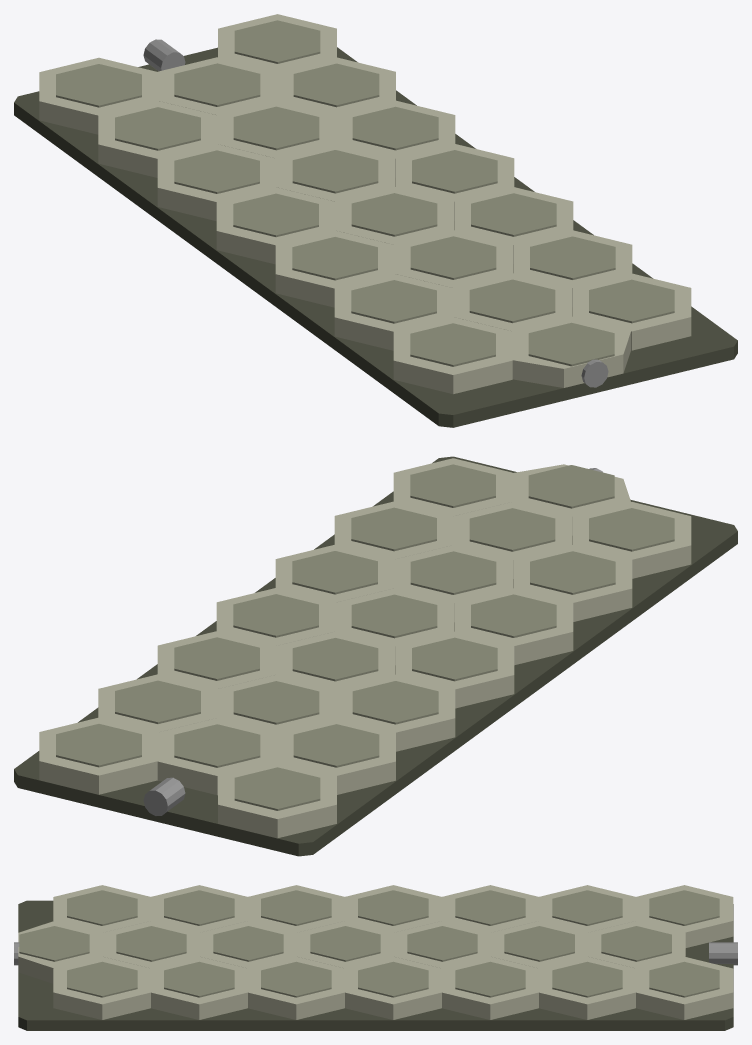
The model's file is vge_mech_solar_panel.obj.
3 views of the same model, one above another, from view 1: azimuth 30°, elevation 25°; view 2: azimuth 150°, elevation 25°; view 3: azimuth 270°, elevation 25° (orthographic). The views are drawn at different scales.
Parts seen in each view (by area): view 1: vge_mech_solar_panel_0, vge_mech_solar_panel_13, vge_mech_solar_panel_41, vge_mech_solar_panel_11, vge_mech_solar_panel_5, vge_mech_solar_panel_7, vge_mech_solar_panel_27, vge_mech_solar_panel_1, vge_mech_solar_panel_3, vge_mech_solar_panel_9, vge_mech_solar_panel_32, vge_mech_solar_panel_18 (+32 smaller); view 2: vge_mech_solar_panel_0, vge_mech_solar_panel_1, vge_mech_solar_panel_29, vge_mech_solar_panel_5, vge_mech_solar_panel_13, vge_mech_solar_panel_7, vge_mech_solar_panel_9, vge_mech_solar_panel_11, vge_mech_solar_panel_3, vge_mech_solar_panel_15, vge_mech_solar_panel_6, vge_mech_solar_panel_16 (+32 smaller); view 3: vge_mech_solar_panel_0, vge_mech_solar_panel_29, vge_mech_solar_panel_33, vge_mech_solar_panel_41, vge_mech_solar_panel_31, vge_mech_solar_panel_35, vge_mech_solar_panel_37, vge_mech_solar_panel_39, vge_mech_solar_panel_1, vge_mech_solar_panel_2, vge_mech_solar_panel_4, vge_mech_solar_panel_6 (+32 smaller).
Part boxes in pixels (bbox=[...]): vge_mech_solar_panel_0: bbox=[14, 47, 737, 427]; vge_mech_solar_panel_13: bbox=[393, 317, 512, 394]; vge_mech_solar_panel_41: bbox=[572, 273, 691, 350]; vge_mech_solar_panel_11: bbox=[334, 274, 453, 350]; vge_mech_solar_panel_5: bbox=[157, 144, 276, 220]; vge_mech_solar_panel_7: bbox=[216, 187, 335, 264]; vge_mech_solar_panel_27: bbox=[512, 316, 630, 387]; vge_mech_solar_panel_1: bbox=[39, 57, 158, 134]; vge_mech_solar_panel_3: bbox=[98, 101, 217, 177]; vge_mech_solar_panel_9: bbox=[275, 230, 393, 307]; vge_mech_solar_panel_32: bbox=[293, 63, 379, 107]; vge_mech_solar_panel_18: bbox=[233, 106, 319, 150]; vge_mech_solar_panel_0: bbox=[14, 456, 737, 856]; vge_mech_solar_panel_1: bbox=[218, 761, 336, 838]; vge_mech_solar_panel_29: bbox=[39, 718, 158, 794]; vge_mech_solar_panel_5: bbox=[336, 674, 455, 751]; vge_mech_solar_panel_13: bbox=[572, 502, 691, 578]; vge_mech_solar_panel_7: bbox=[395, 631, 514, 708]; vge_mech_solar_panel_9: bbox=[454, 588, 573, 665]; vge_mech_solar_panel_11: bbox=[513, 545, 632, 621]; vge_mech_solar_panel_3: bbox=[277, 718, 395, 794]; vge_mech_solar_panel_15: bbox=[157, 718, 276, 795]; vge_mech_solar_panel_6: bbox=[352, 681, 438, 724]; vge_mech_solar_panel_16: bbox=[174, 724, 260, 767]; vge_mech_solar_panel_0: bbox=[18, 900, 733, 1030]; vge_mech_solar_panel_29: bbox=[635, 957, 733, 1019]; vge_mech_solar_panel_33: bbox=[441, 956, 538, 1019]; vge_mech_solar_panel_41: bbox=[53, 956, 150, 1019]; vge_mech_solar_panel_31: bbox=[538, 956, 636, 1019]; vge_mech_solar_panel_35: bbox=[344, 956, 442, 1019]; vge_mech_solar_panel_37: bbox=[247, 957, 345, 1019]; vge_mech_solar_panel_39: bbox=[150, 957, 247, 1019]; vge_mech_solar_panel_1: bbox=[635, 885, 733, 947]; vge_mech_solar_panel_2: bbox=[649, 890, 719, 925]; vge_mech_solar_panel_4: bbox=[552, 890, 622, 925]; vge_mech_solar_panel_6: bbox=[455, 890, 525, 925].
Size of the model in its own units: 1.96 by 0.212 by 5.
